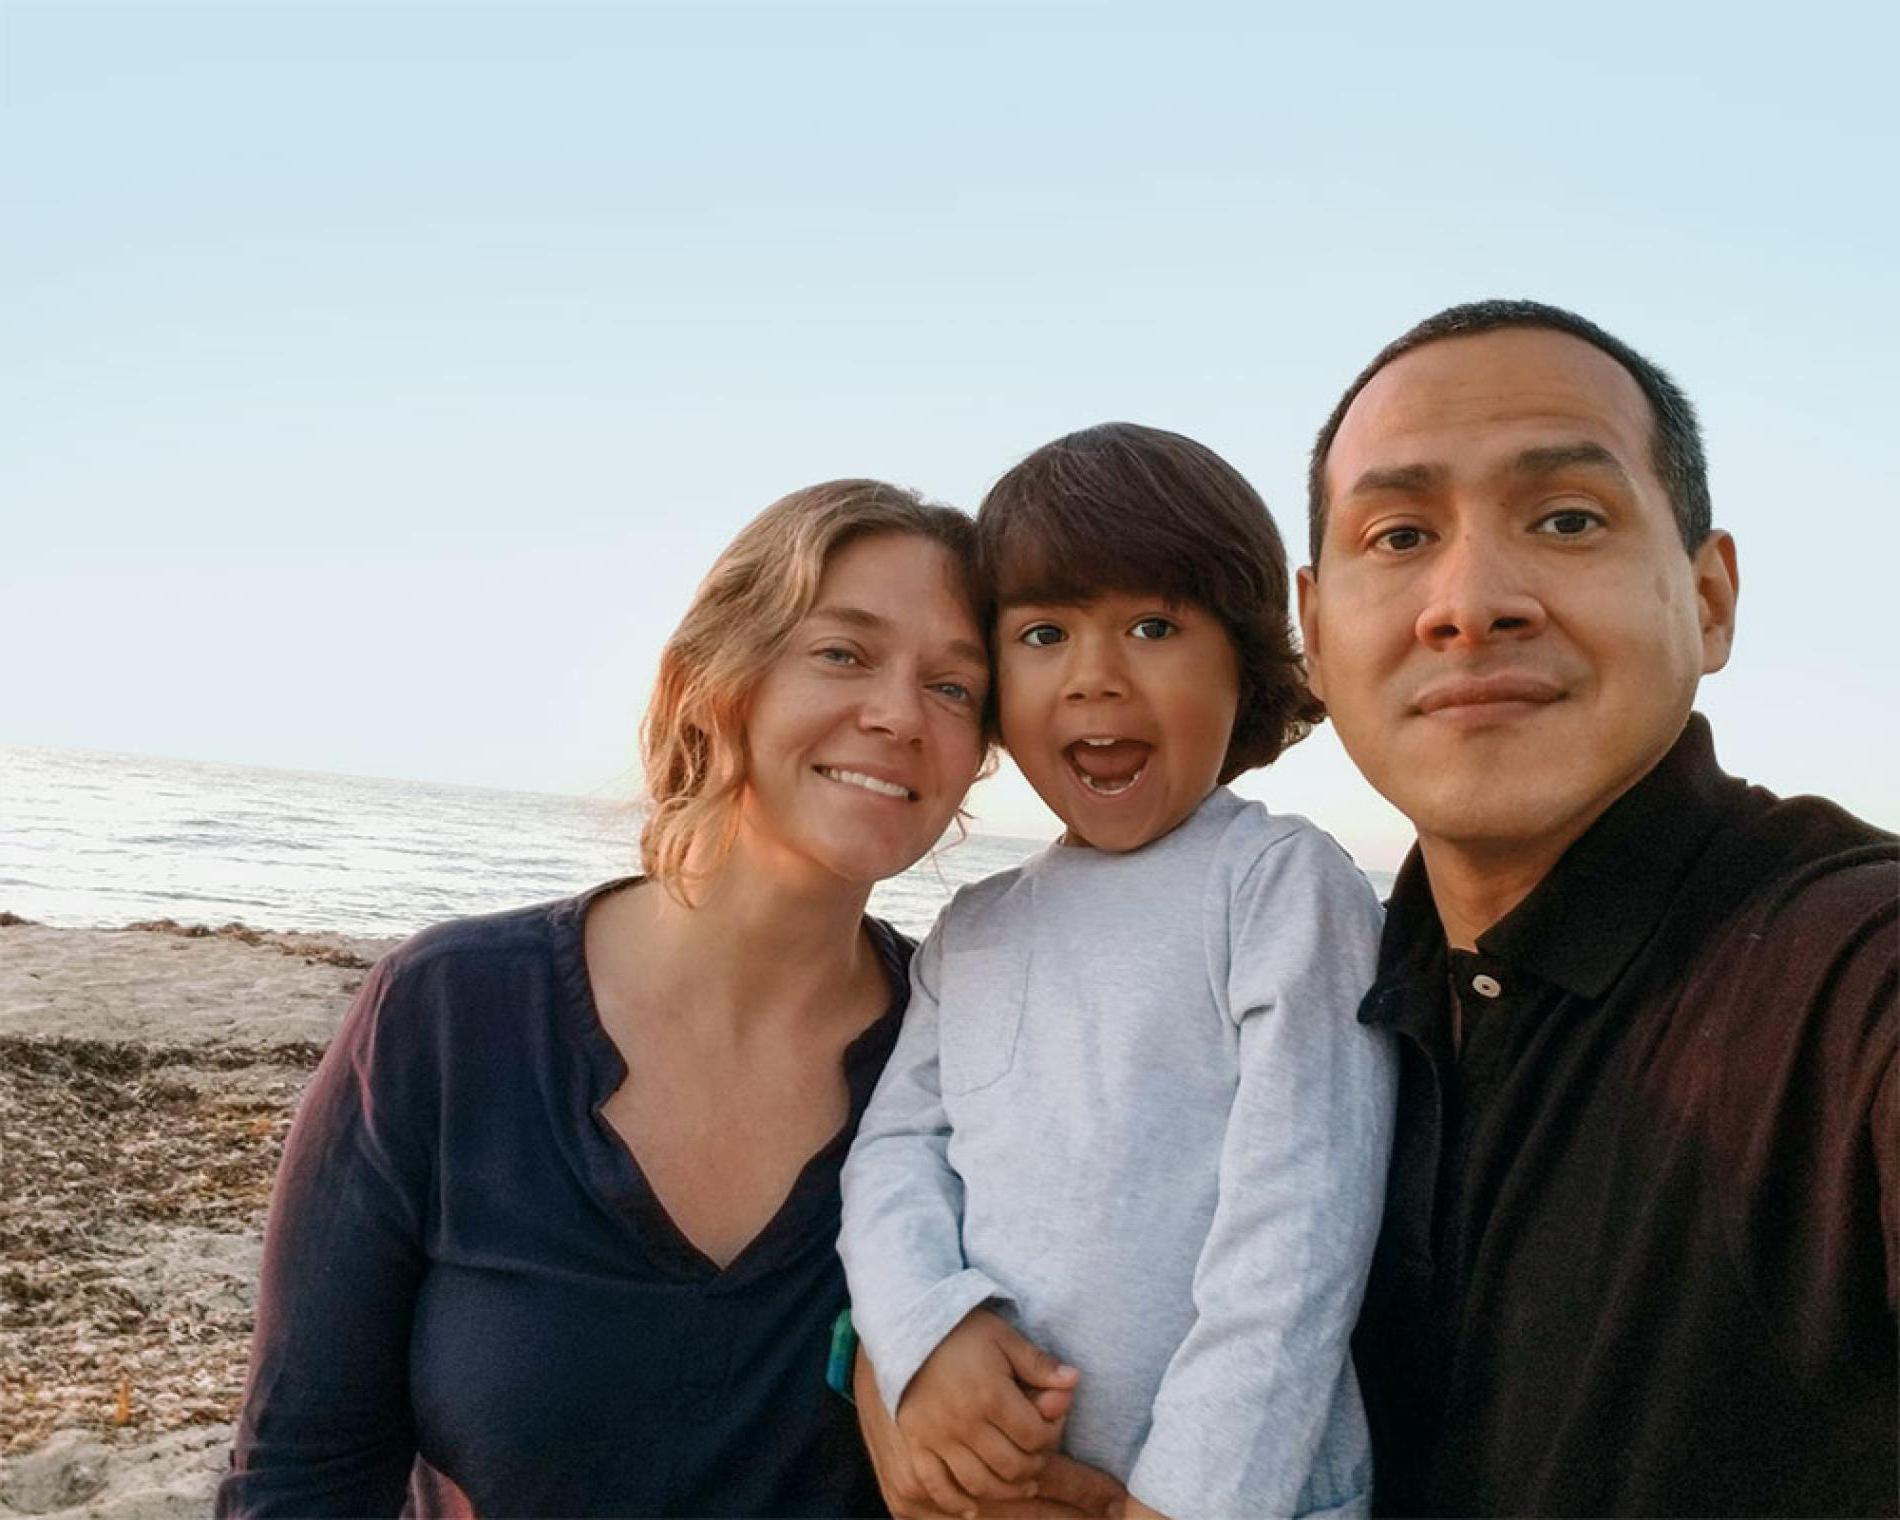face: (1323, 328, 1694, 838), (748, 536, 986, 881), (993, 585, 1236, 855)
